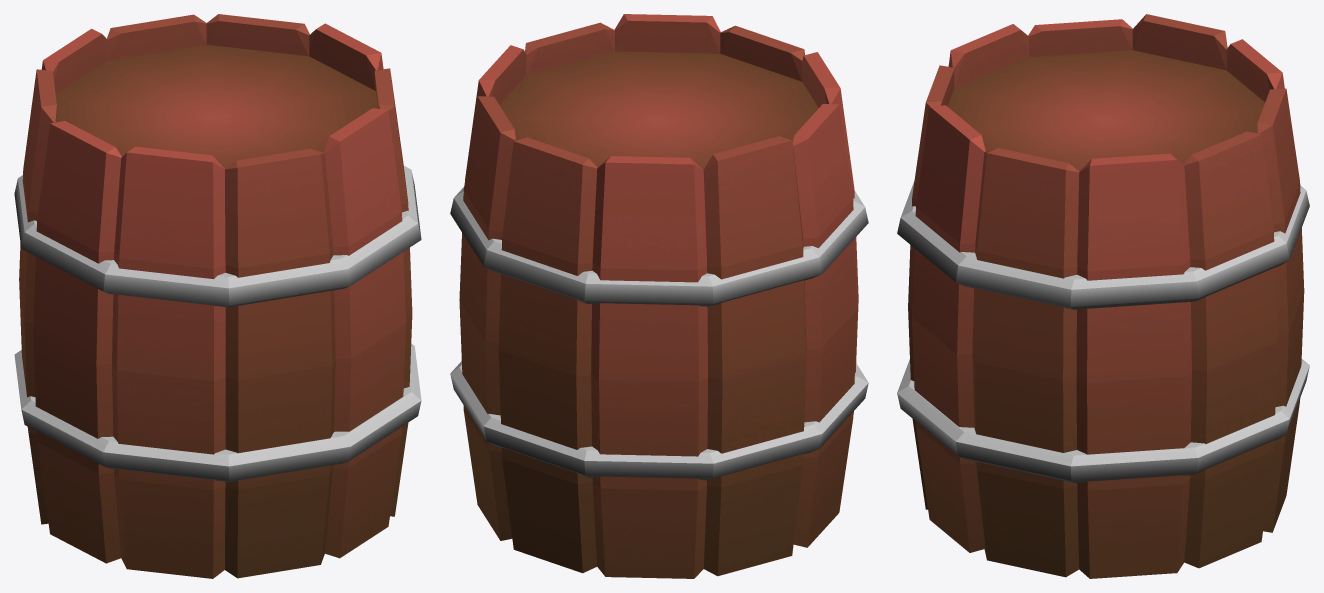
The picture shows the model from 3 angles, left to right: view 1: azimuth 30°, elevation 25°; view 2: azimuth 150°, elevation 25°; view 3: azimuth 270°, elevation 25°; orthographic projection.
Visible parts, largest first — view 1: Barrel; view 2: Barrel; view 3: Barrel.
Boxes of the visible parts, left/top/right/bottom form: Barrel: left=14, top=14, right=421, bottom=578; Barrel: left=450, top=14, right=868, bottom=578; Barrel: left=897, top=14, right=1309, bottom=578.
Size of the model in its own units: 1.09 by 1.21 by 1.09.
Materials: 1 (1 with a texture image).
